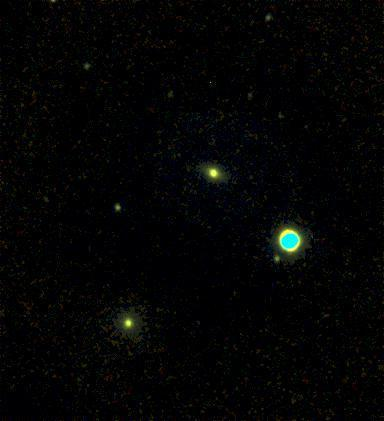star: (37, 0, 67, 16)
